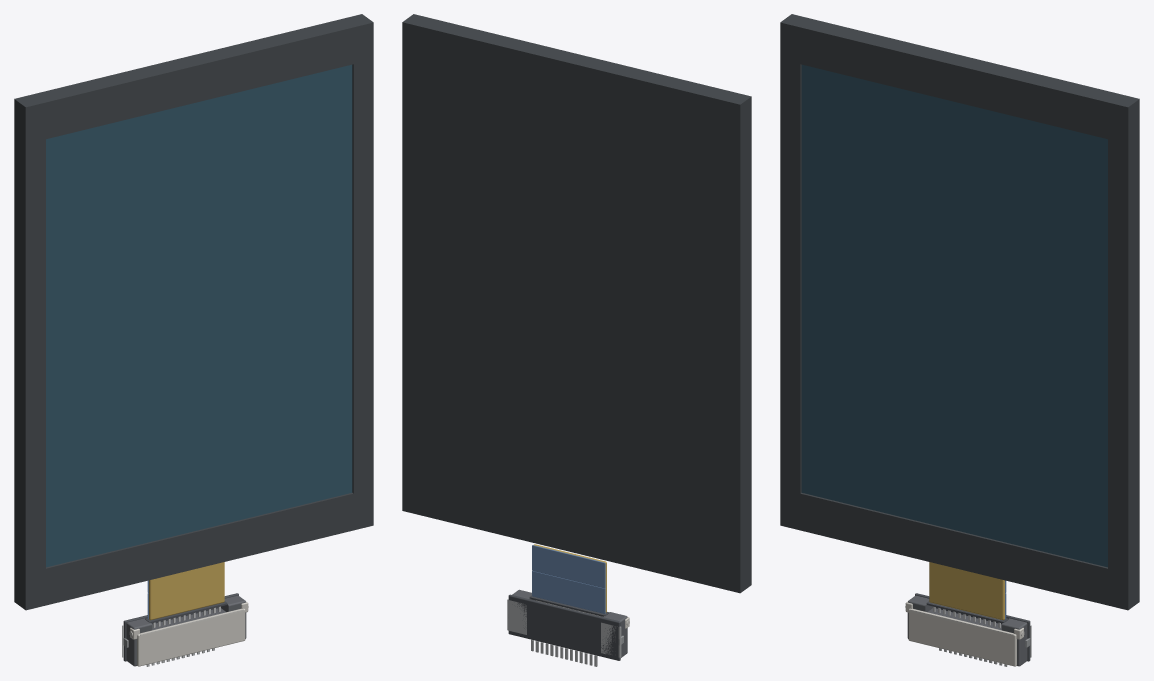
Rendered from er-tft020-3.glb.
3 views of the same model, side by side, from view 1: azimuth 30°, elevation 25°; view 2: azimuth 150°, elevation 25°; view 3: azimuth 330°, elevation 25° (orthographic). The views are drawn at different scales.
Visible parts, largest first — view 1: er-tft020-3_64, er-tft020-3_63, er-tft020-3_62, er-tft020-3_47, er-tft020-3_59, er-tft020-3_17; view 2: er-tft020-3_62, er-tft020-3_16, er-tft020-3_63, er-tft020-3_61, er-tft020-3_60, er-tft020-3_57, er-tft020-3_1; view 3: er-tft020-3_64, er-tft020-3_63, er-tft020-3_62, er-tft020-3_47, er-tft020-3_59, er-tft020-3_17.
Boxes of the visible parts, x1=… form: er-tft020-3_64: x1=46, y1=64, x2=352, y2=567; er-tft020-3_63: x1=22, y1=20, x2=373, y2=610; er-tft020-3_62: x1=14, y1=14, x2=370, y2=607; er-tft020-3_47: x1=137, y1=608, x2=245, y2=666; er-tft020-3_59: x1=149, y1=562, x2=224, y2=620; er-tft020-3_17: x1=126, y1=595, x2=246, y2=666; er-tft020-3_62: x1=402, y1=16, x2=748, y2=593; er-tft020-3_16: x1=508, y1=594, x2=620, y2=660; er-tft020-3_63: x1=411, y1=14, x2=751, y2=586; er-tft020-3_61: x1=532, y1=545, x2=605, y2=588; er-tft020-3_60: x1=532, y1=571, x2=605, y2=613; er-tft020-3_57: x1=524, y1=615, x2=603, y2=649; er-tft020-3_1: x1=507, y1=599, x2=526, y2=634; er-tft020-3_64: x1=801, y1=64, x2=1107, y2=567; er-tft020-3_63: x1=780, y1=20, x2=1131, y2=610; er-tft020-3_62: x1=783, y1=14, x2=1139, y2=607; er-tft020-3_47: x1=908, y1=608, x2=1016, y2=666; er-tft020-3_59: x1=929, y1=562, x2=1004, y2=620; er-tft020-3_17: x1=907, y1=595, x2=1027, y2=666.
Bounding box in the file's own units: 34.6 × 57.71 × 3.33.
